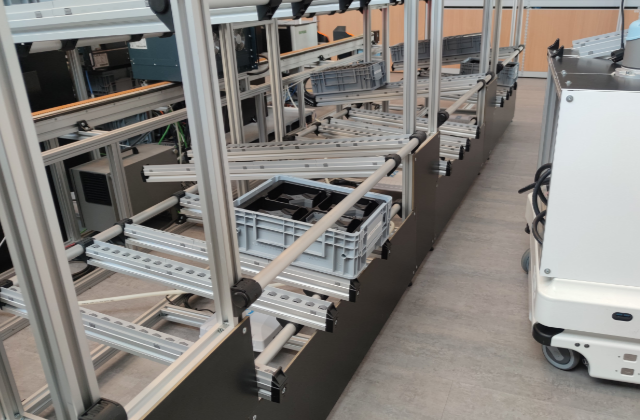Box: (224, 173, 393, 280), (309, 59, 388, 95), (433, 30, 491, 61), (388, 38, 435, 66)
